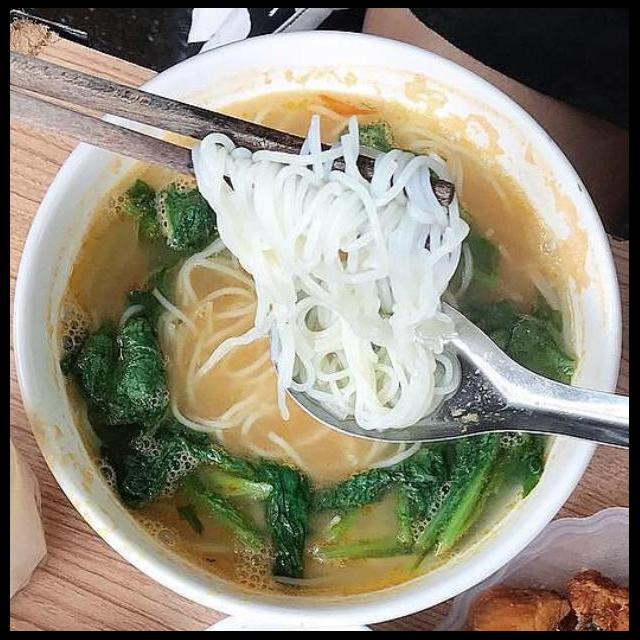bun: (186, 121, 472, 458)
